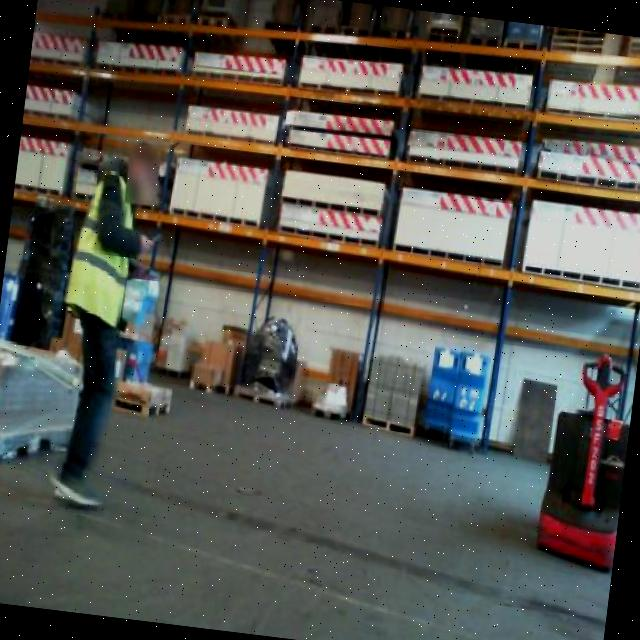pallet: (102, 384, 173, 426), (226, 379, 297, 413), (355, 406, 418, 442), (186, 7, 242, 34), (184, 373, 232, 397), (372, 23, 424, 45), (146, 7, 194, 30), (301, 18, 348, 40), (463, 30, 506, 54), (498, 34, 550, 53)
